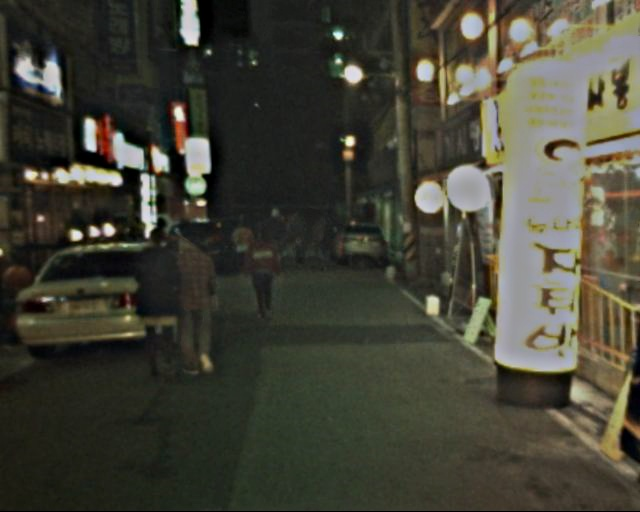person: (128, 221, 188, 385), (168, 220, 227, 383), (244, 224, 284, 324), (264, 200, 293, 279), (229, 216, 259, 284), (283, 213, 306, 276), (315, 217, 337, 275)
